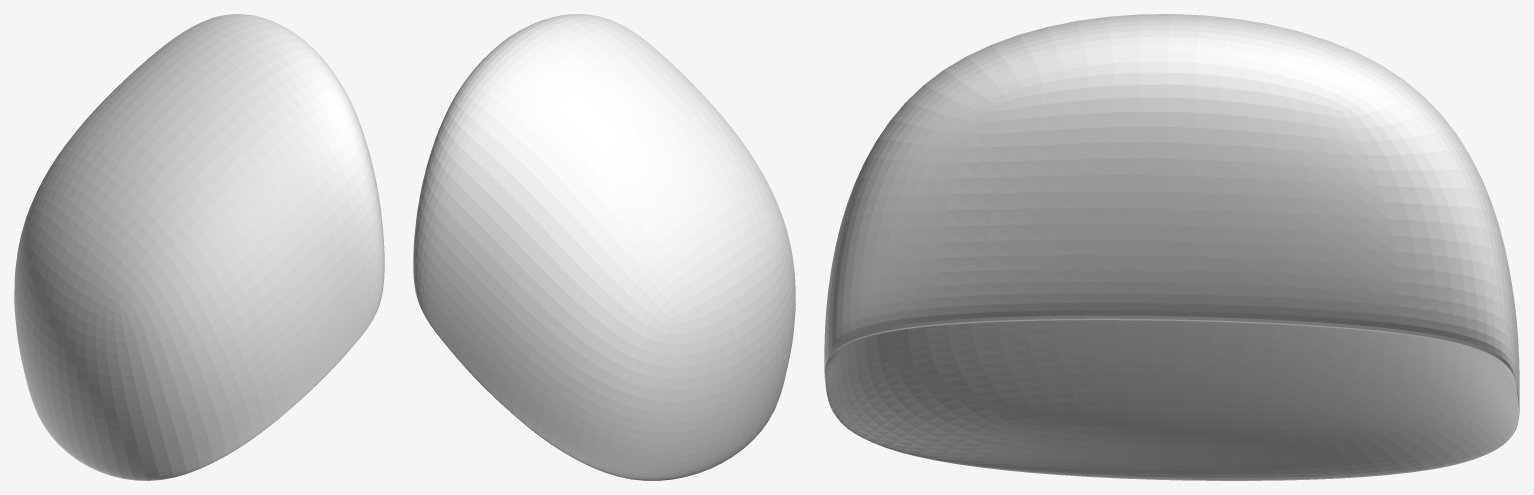
Rendered from wingmould_L.obj.
3 renders of one model, left to right at view 1: azimuth 30°, elevation 25°; view 2: azimuth 150°, elevation 25°; view 3: azimuth 270°, elevation 25°, orthographic. The views are drawn at different scales.
Visible parts, largest first — view 1: Sphere.002; view 2: Sphere.002; view 3: Sphere.002.
Part boxes in pixels (x1,y1,x2,y2): Sphere.002: (14,14,384,480); Sphere.002: (413,14,795,480); Sphere.002: (824,14,1519,480).
Size of the model in its own units: 1.12 by 1.51 by 1.55.
